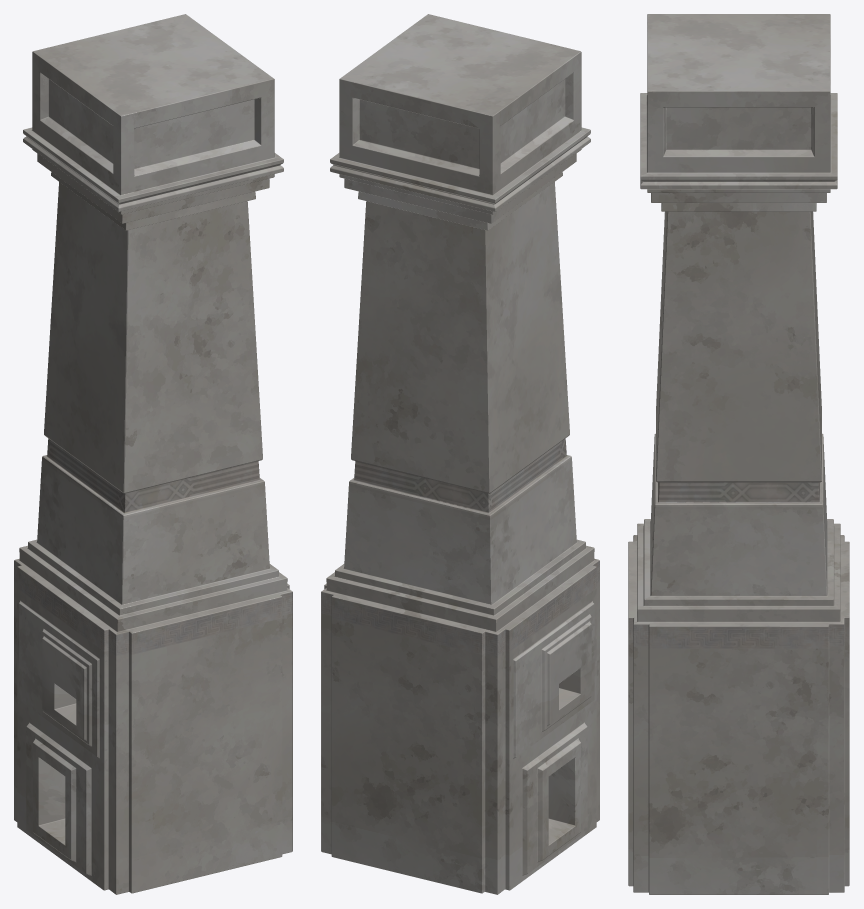
The model's file is SM_Structure.fbx.
The picture shows the model from 3 angles, left to right: view 1: azimuth 30°, elevation 25°; view 2: azimuth 150°, elevation 25°; view 3: azimuth 270°, elevation 25°; orthographic projection. The views are drawn at different scales.
Parts seen in each view (by area): view 1: SM_Structure_LOD0; view 2: SM_Structure_LOD0; view 3: SM_Structure_LOD0.
Boxes of the visible parts, x1,y1,x2,y2 form: SM_Structure_LOD0: (14, 14, 292, 894); SM_Structure_LOD0: (321, 14, 599, 894); SM_Structure_LOD0: (628, 14, 849, 894).
Bounding box in the file's own units: 436 × 416 × 1650.
2 materials, 2 textured.
